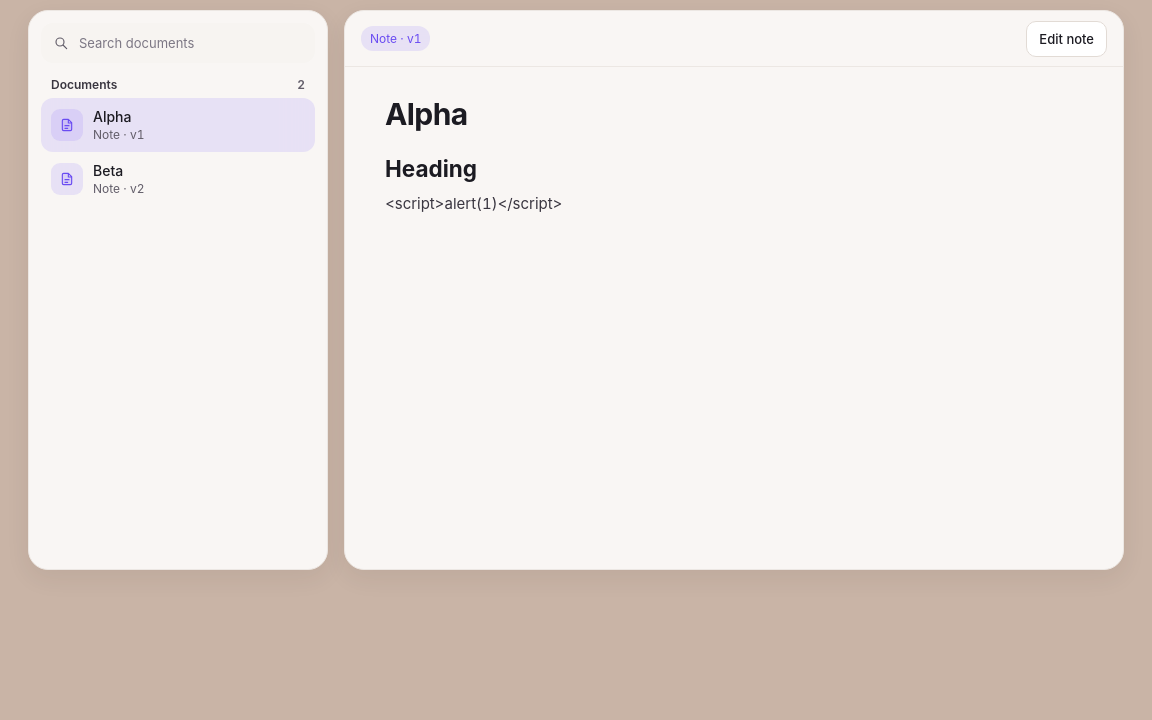
Test case: knowledge view › opens the selected note in the Notes editor using an encoded deep link
The image size is (1152, 720).
Click the button "Beta Note · v2".
click(67, 179)  # box [41, 152, 315, 206]
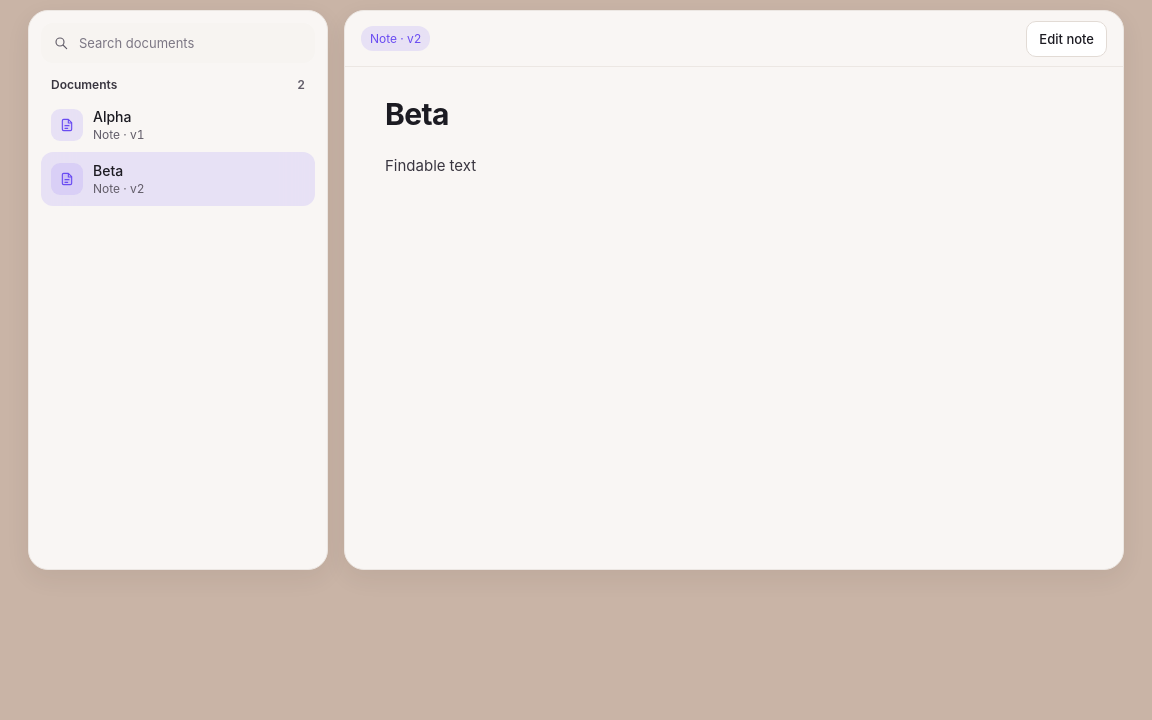
Click the button "Edit note".
click(1067, 38)  # box [1026, 20, 1107, 56]
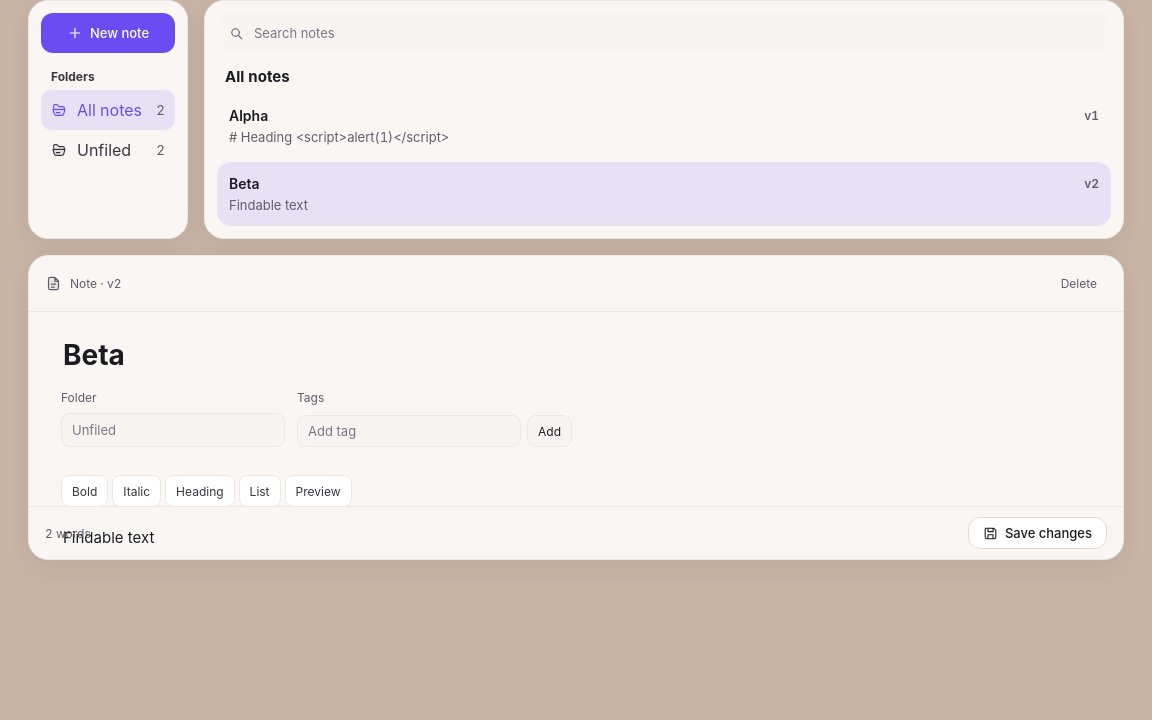
Now the field named "Note title" holds "Beta", box [61, 336, 1091, 374]
Now the element with class "notes-live--editing" is shown
